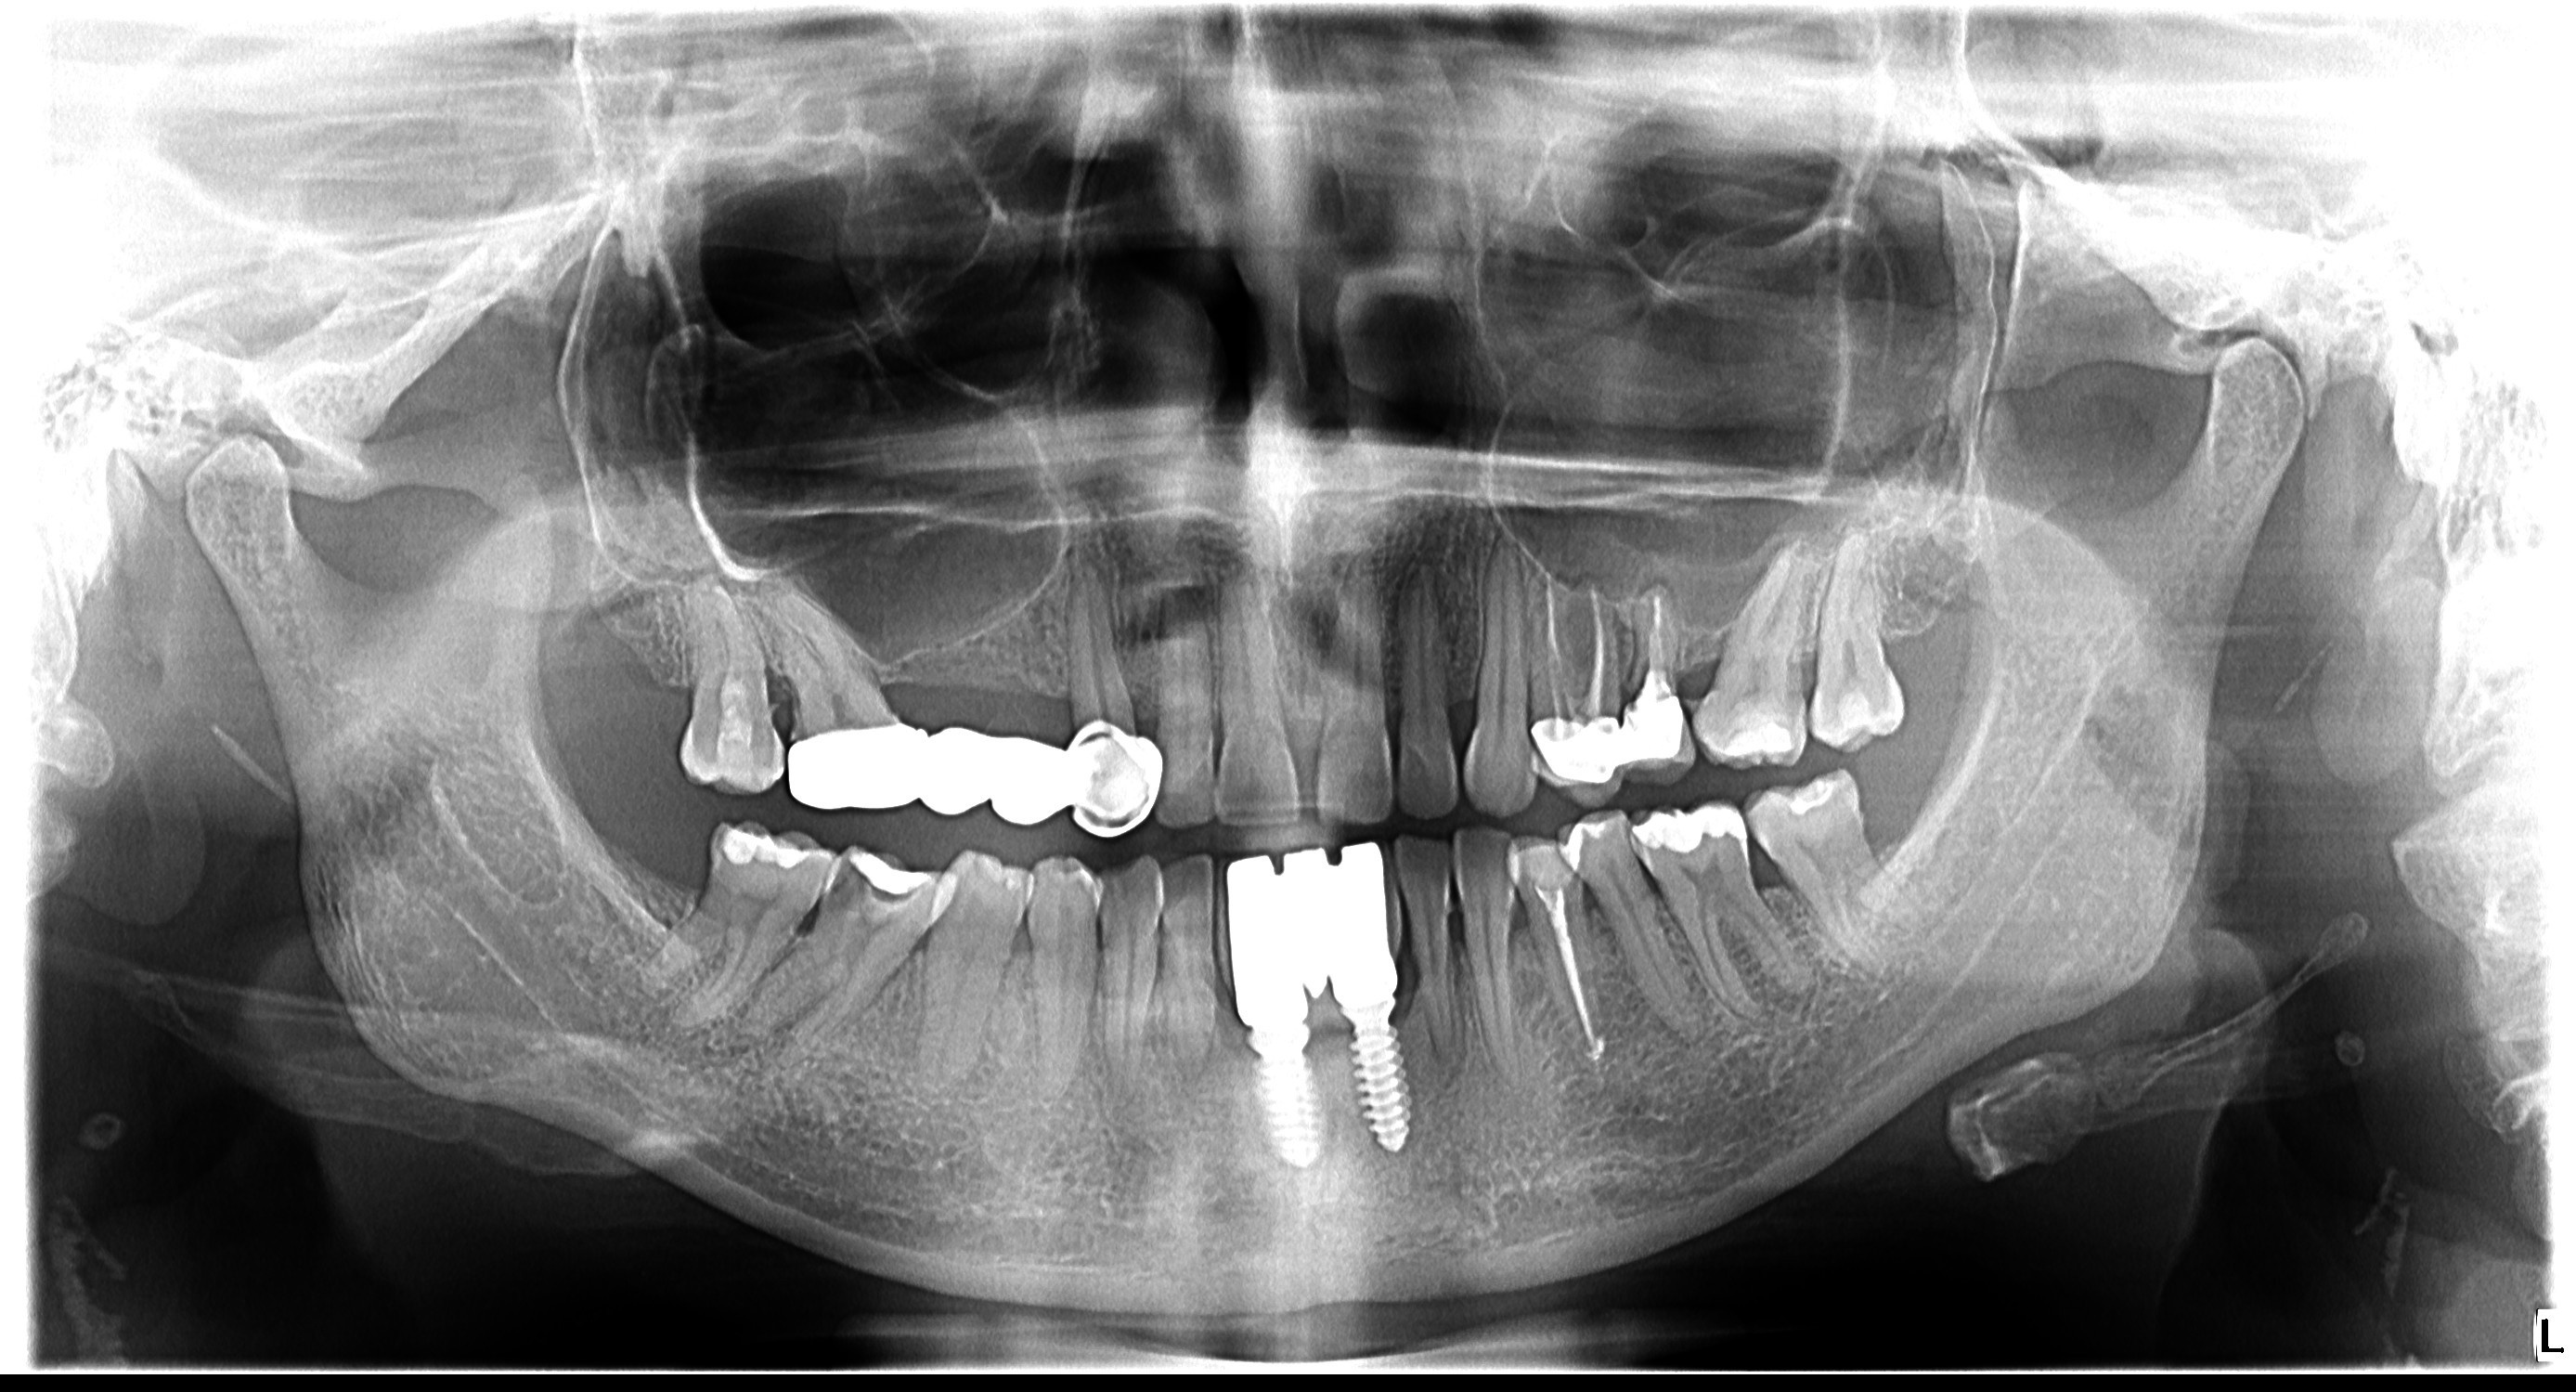API: (1757, 969, 1829, 1027), (1627, 567, 1680, 612)
BON: (752, 641, 805, 732), (1380, 958, 1425, 1056), (1696, 627, 1733, 687)
CAR: (810, 843, 884, 915)
IMP: (1230, 1030, 1341, 1176), (1531, 571, 1608, 713), (1538, 914, 1612, 1056), (1350, 1027, 1430, 1155), (1641, 590, 1680, 682)
OBT: (1622, 797, 1759, 859), (707, 816, 819, 876), (702, 705, 771, 792), (1713, 706, 1805, 766), (831, 854, 942, 903), (1768, 770, 1867, 823), (1545, 813, 1619, 878), (1514, 826, 1574, 893), (1828, 681, 1884, 737)
PRR: (774, 698, 1173, 838), (1199, 828, 1410, 1025), (1507, 674, 1720, 806)
